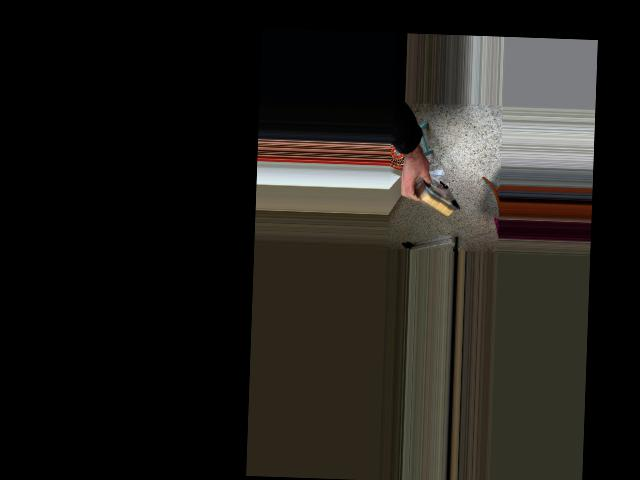cheese: (392, 163, 470, 226)
